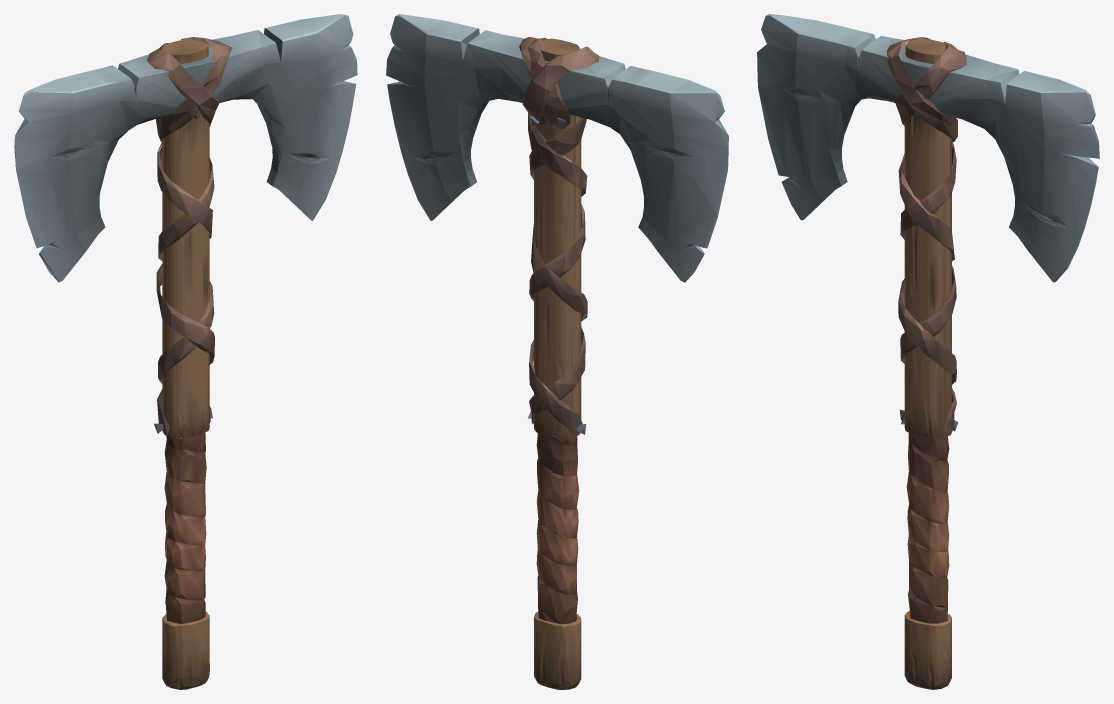
Rendered from basic_axe_db.fbx.
The picture shows the model from 3 angles, left to right: view 1: azimuth 30°, elevation 25°; view 2: azimuth 150°, elevation 25°; view 3: azimuth 330°, elevation 25°; orthographic projection.
Parts seen in each view (by area): view 1: basic_axe_db; view 2: basic_axe_db; view 3: basic_axe_db.
Part boxes in pixels (left/top/right/bottom): basic_axe_db: left=14, top=14, right=357, bottom=689; basic_axe_db: left=386, top=14, right=728, bottom=689; basic_axe_db: left=757, top=14, right=1099, bottom=689.
Size of the model in its own units: 0.6764 by 1.21 by 0.1127.
